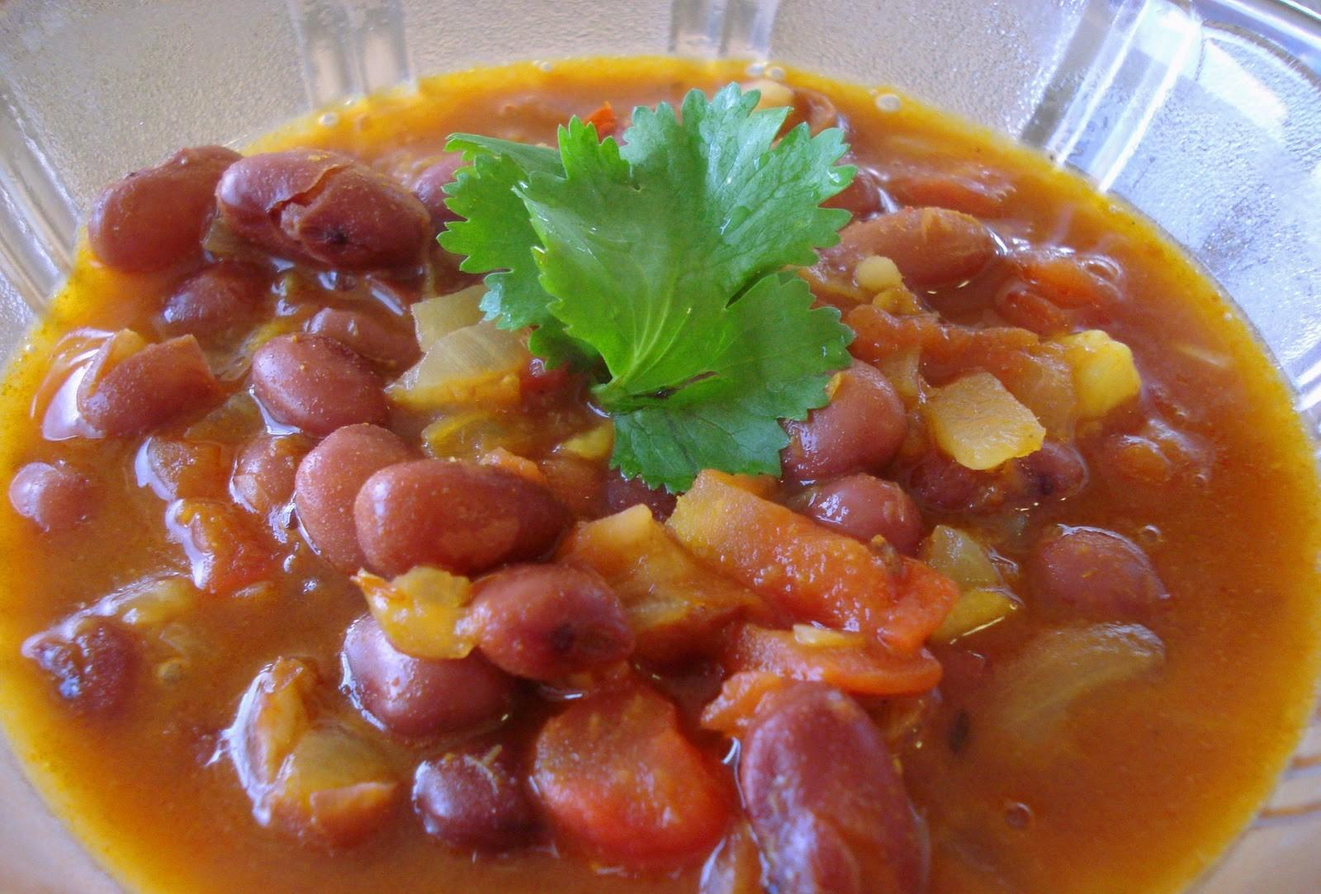RajmaCurry: (0, 46, 1321, 894)
